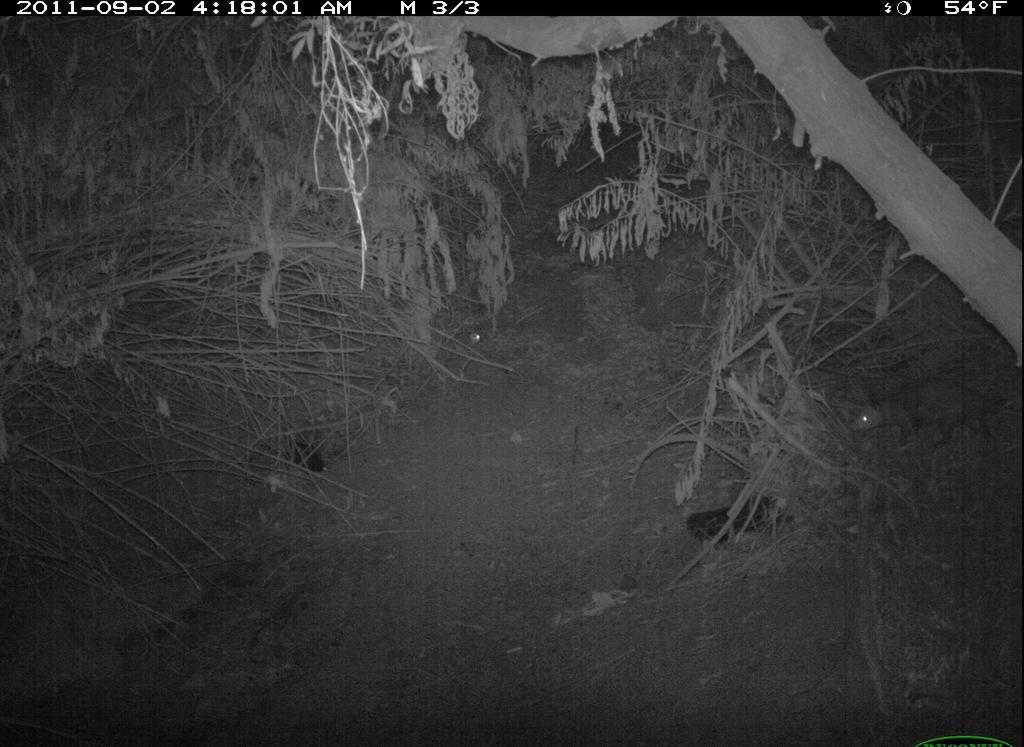opossum: (845, 372, 1018, 454)
